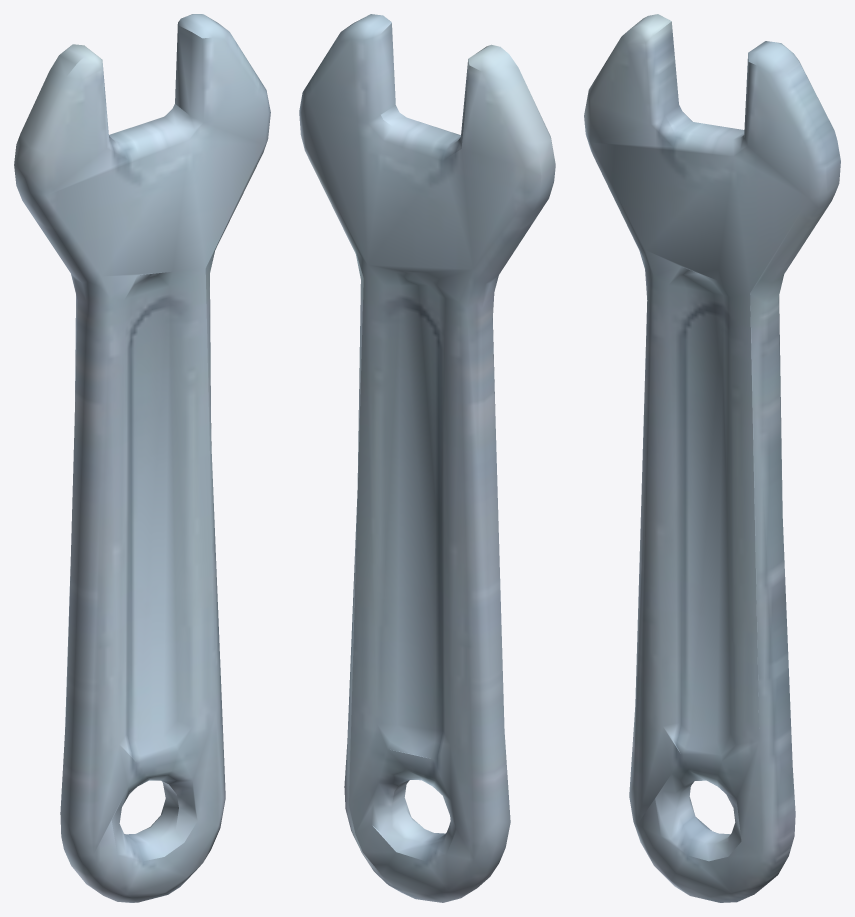
3 renders of one model, left to right at view 1: azimuth 30°, elevation 25°; view 2: azimuth 150°, elevation 25°; view 3: azimuth 330°, elevation 25°, orthographic.
Visible parts, largest first — view 1: wrench; view 2: wrench; view 3: wrench.
Boxes of the visible parts, x1,y1,x2,y2 form: wrench: (14, 14, 270, 902); wrench: (299, 14, 555, 902); wrench: (584, 14, 840, 902).
Bounding box in the file's own units: 0.0737 × 0.2499 × 0.0139.
Materials: 1 (1 with a texture image).
